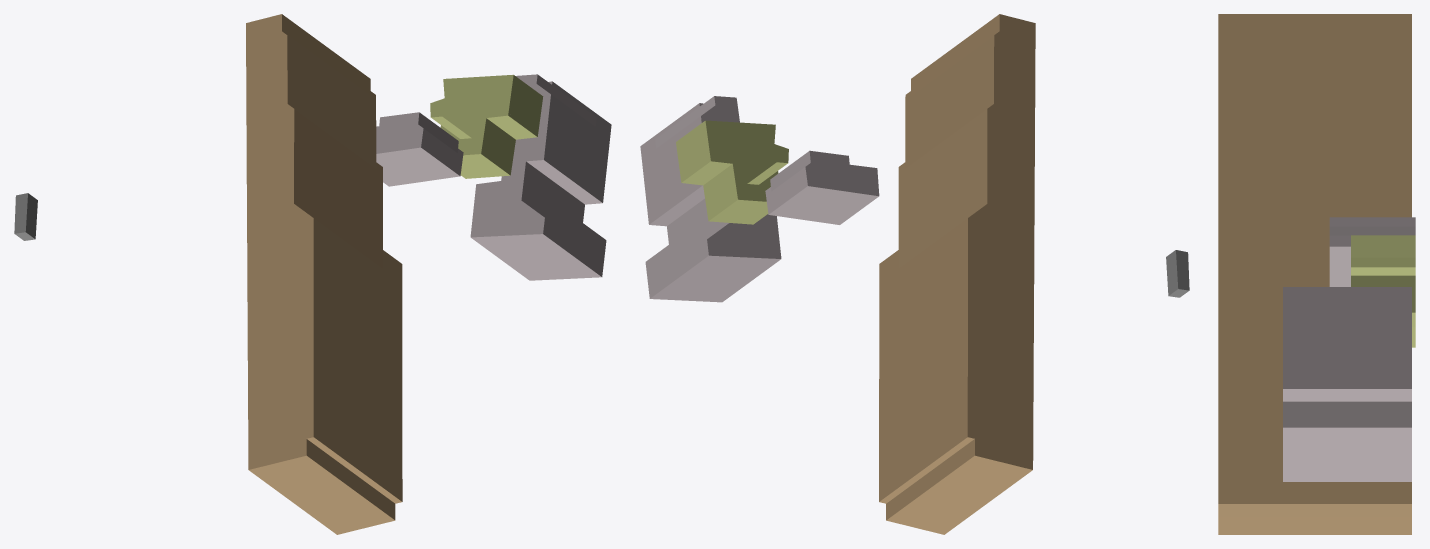
3 views of the same model, side by side, from view 1: azimuth 30°, elevation 25°; view 2: azimuth 150°, elevation 25°; view 3: azimuth 270°, elevation 25° (orthographic). The views are drawn at different scales.
Visible parts, largest first — view 1: 0_3_1_0_3_3_3_0; view 2: 0_3_1_0_3_3_3_0; view 3: 0_3_1_0_3_3_3_0.
Part boxes in pixels (x1=…): 0_3_1_0_3_3_3_0: x1=14, y1=14, x2=611, y2=534; 0_3_1_0_3_3_3_0: x1=640, y1=14, x2=1189, y2=534; 0_3_1_0_3_3_3_0: x1=1218, y1=14, x2=1415, y2=534.
Bounding box in the file's own units: 94.65 × 75.19 × 27.5.
